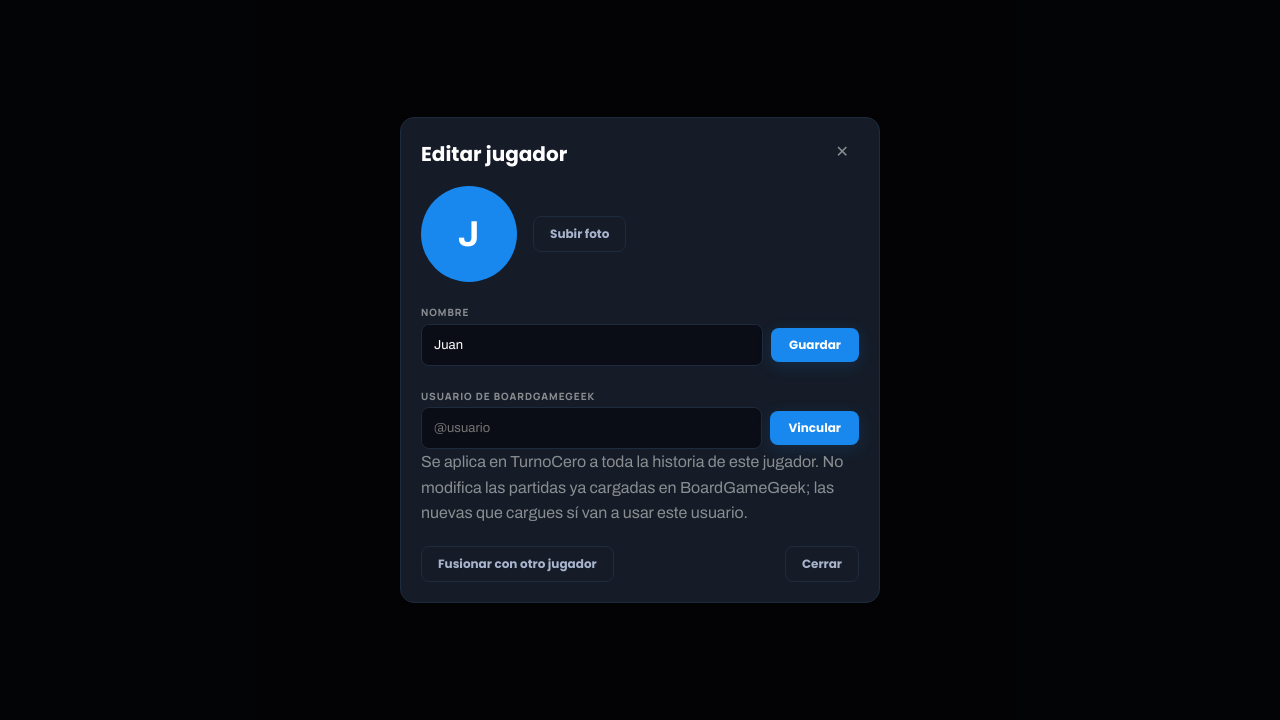
Scenario: <EditPlayerModal> › guardar el nombre pega al endpoint correcto
Replace the text in the field showing "Juan" with "Juancito" at (592, 345), box x1=421 y1=324 x2=763 y2=366
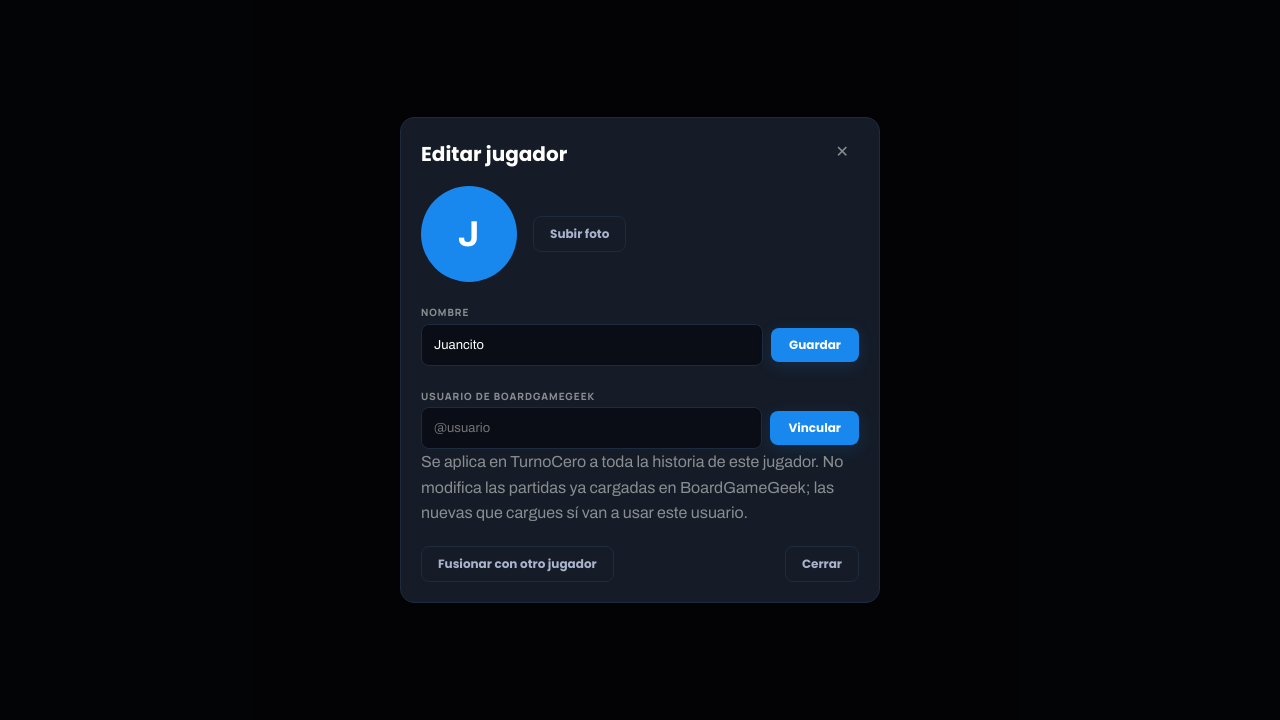
Click the button "Guardar" at (815, 345), box x1=771 y1=328 x2=859 y2=362
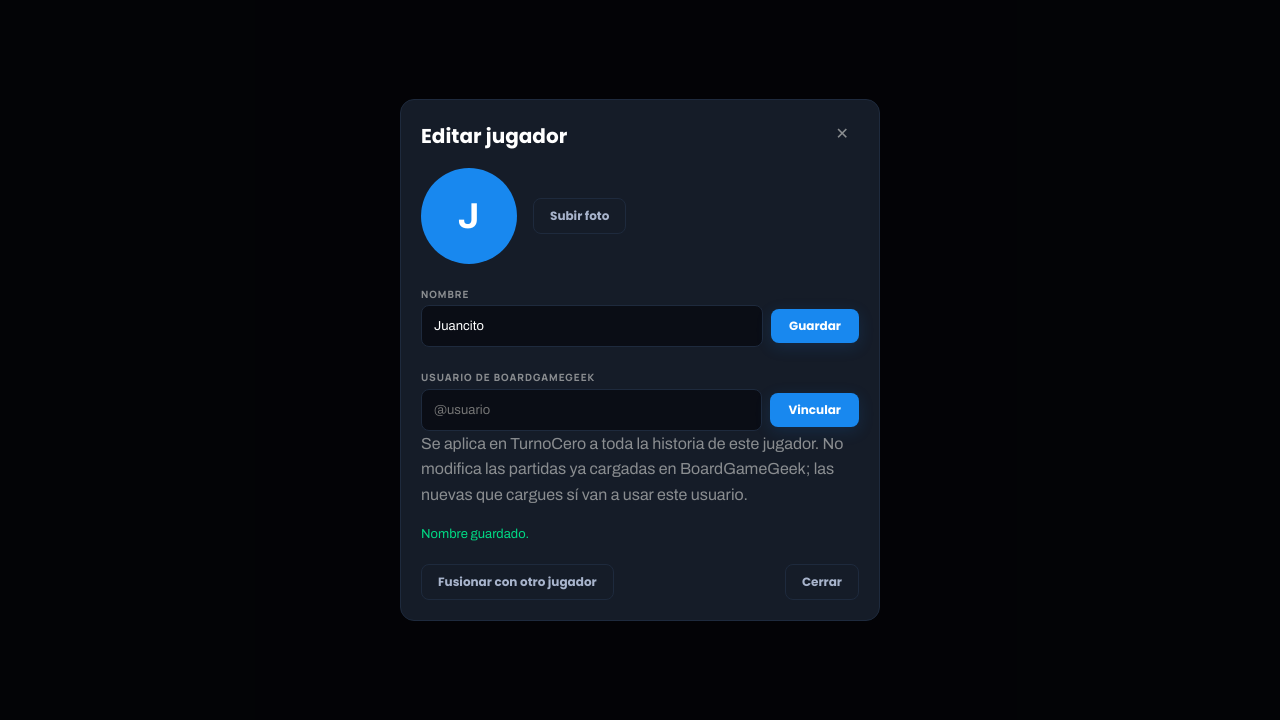
Now the text "Nombre guardado." is shown, box x1=421 y1=527 x2=529 y2=541
